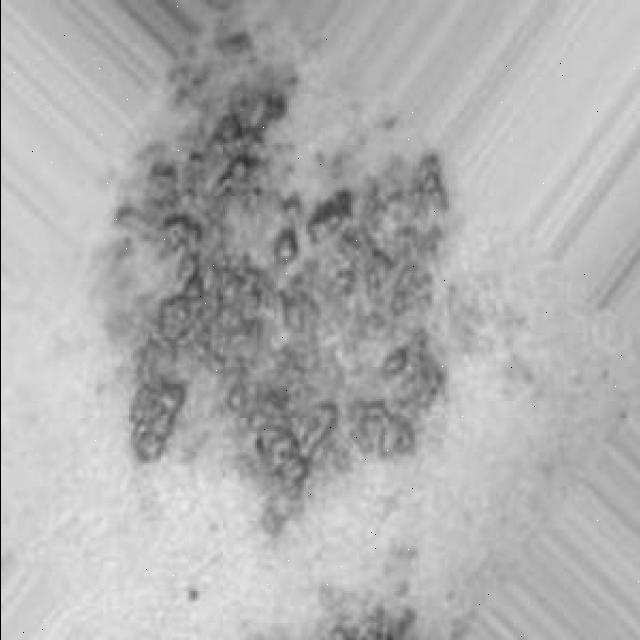Shingles: (113, 90, 453, 534)
